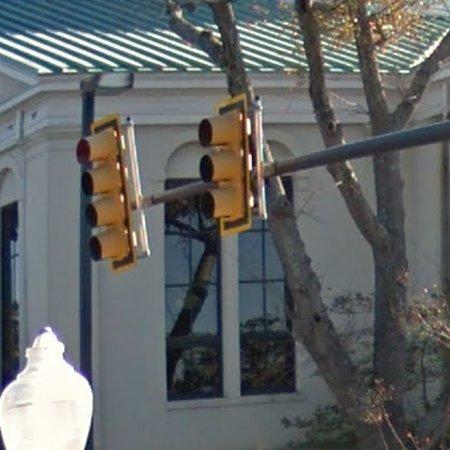traffic lights: (74, 113, 138, 275), (197, 91, 253, 237)
